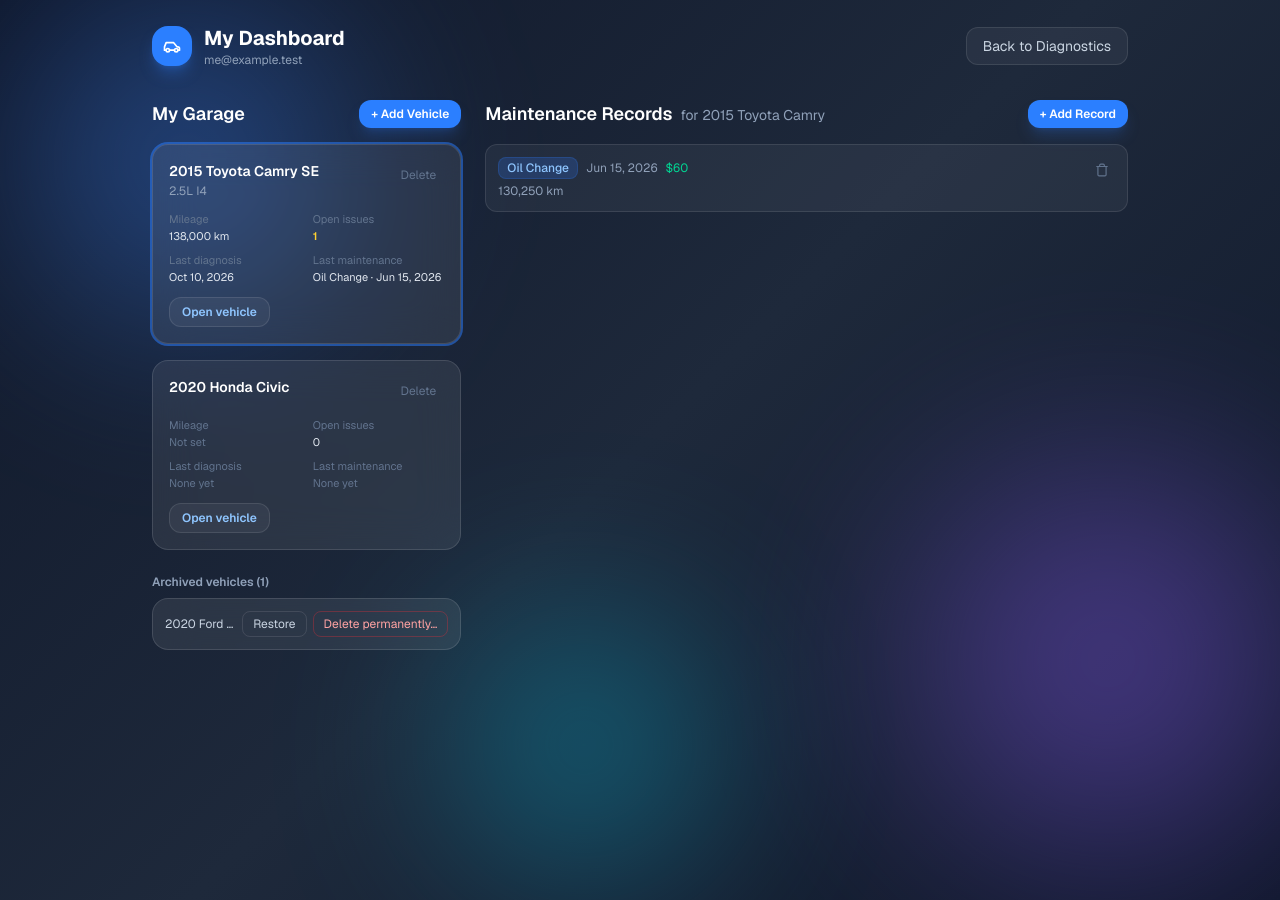
Test: the dashboard › archives a removed vehicle, says so, and lists archived vehicles with a way back
Expected: the element that starts with "Archived vehicles (" shows "2020 Ford F-150", [152,566,461,650]
Expected: the button "Restore" is shown, [242,611,307,637]
Click the button "Delete" in the row of "2.5L I4" at (418, 175), box [392,161,444,189]
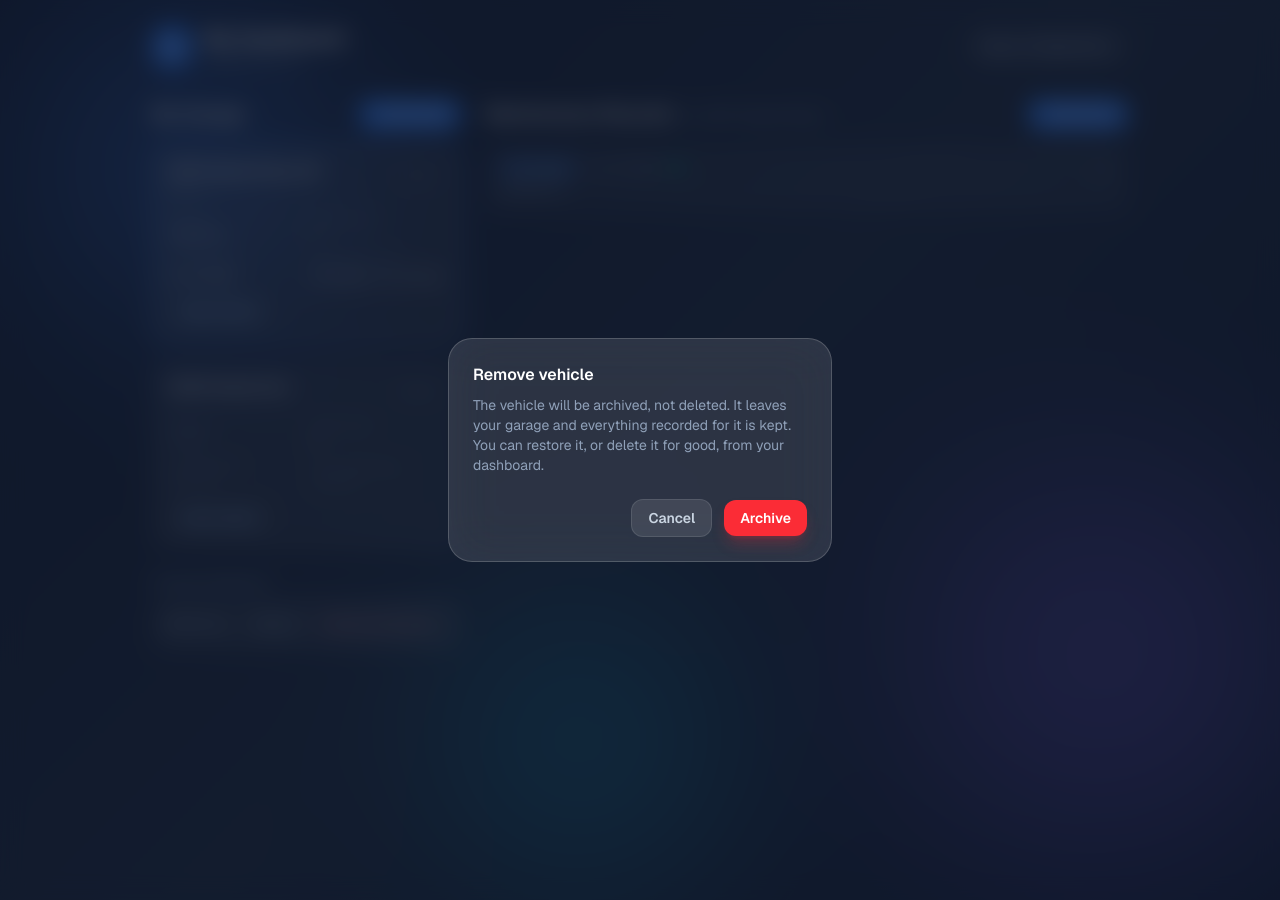
Result: the text "will be archived, not deleted" is shown at [473,396,791,474]
Click the button "Archive" at (766, 518), box [724,500,807,536]
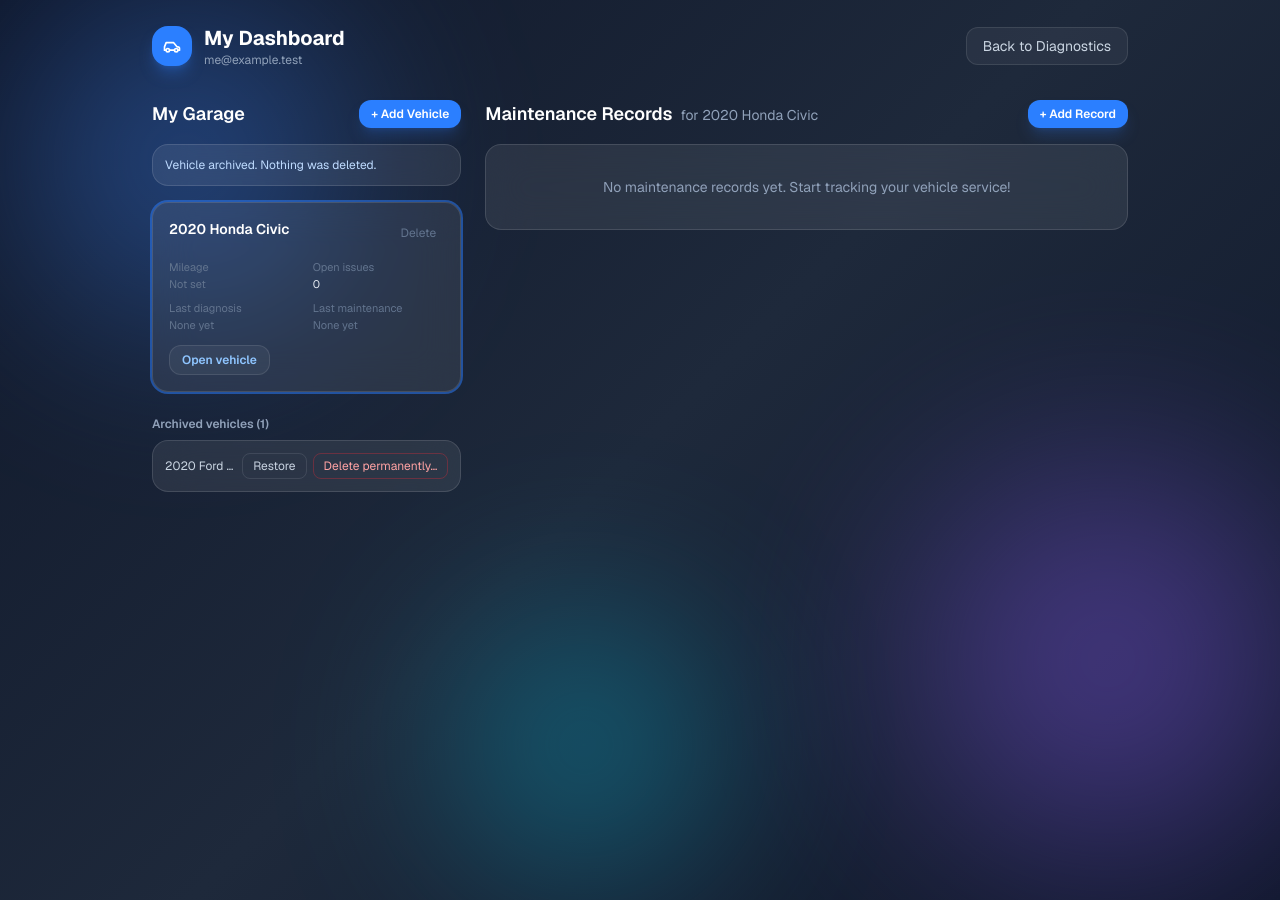
Result: the message "Vehicle archived. Nothing was deleted." is shown at [152,144,461,186]
